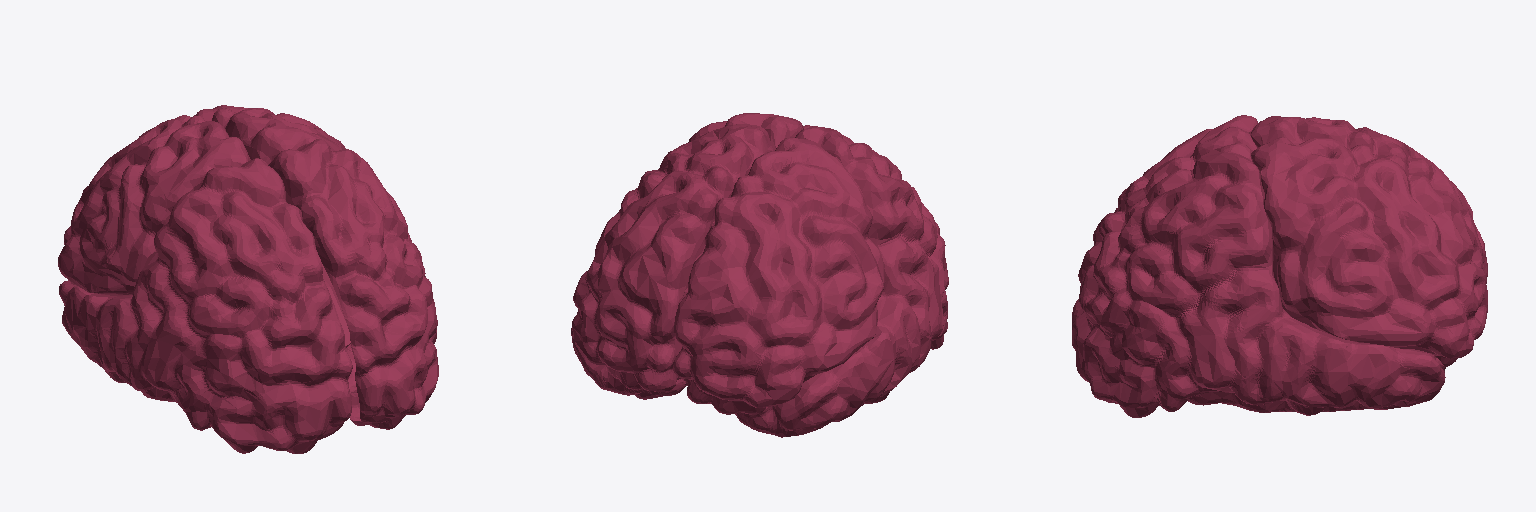
File: brain.obj
The picture shows the model from 3 angles: view 1: azimuth 30°, elevation 25°; view 2: azimuth 150°, elevation 25°; view 3: azimuth 270°, elevation 25°; orthographic projection.
Parts seen in each view (by area): view 1: fullbraino_0; view 2: fullbraino_0; view 3: fullbraino_0.
Part boxes in pixels (left/top/right/bottom): fullbraino_0: left=58, top=105, right=438, bottom=453; fullbraino_0: left=571, top=113, right=948, bottom=437; fullbraino_0: left=1072, top=115, right=1487, bottom=417.
Bounding box in the file's own units: 8.6 × 6.87 × 10.44.